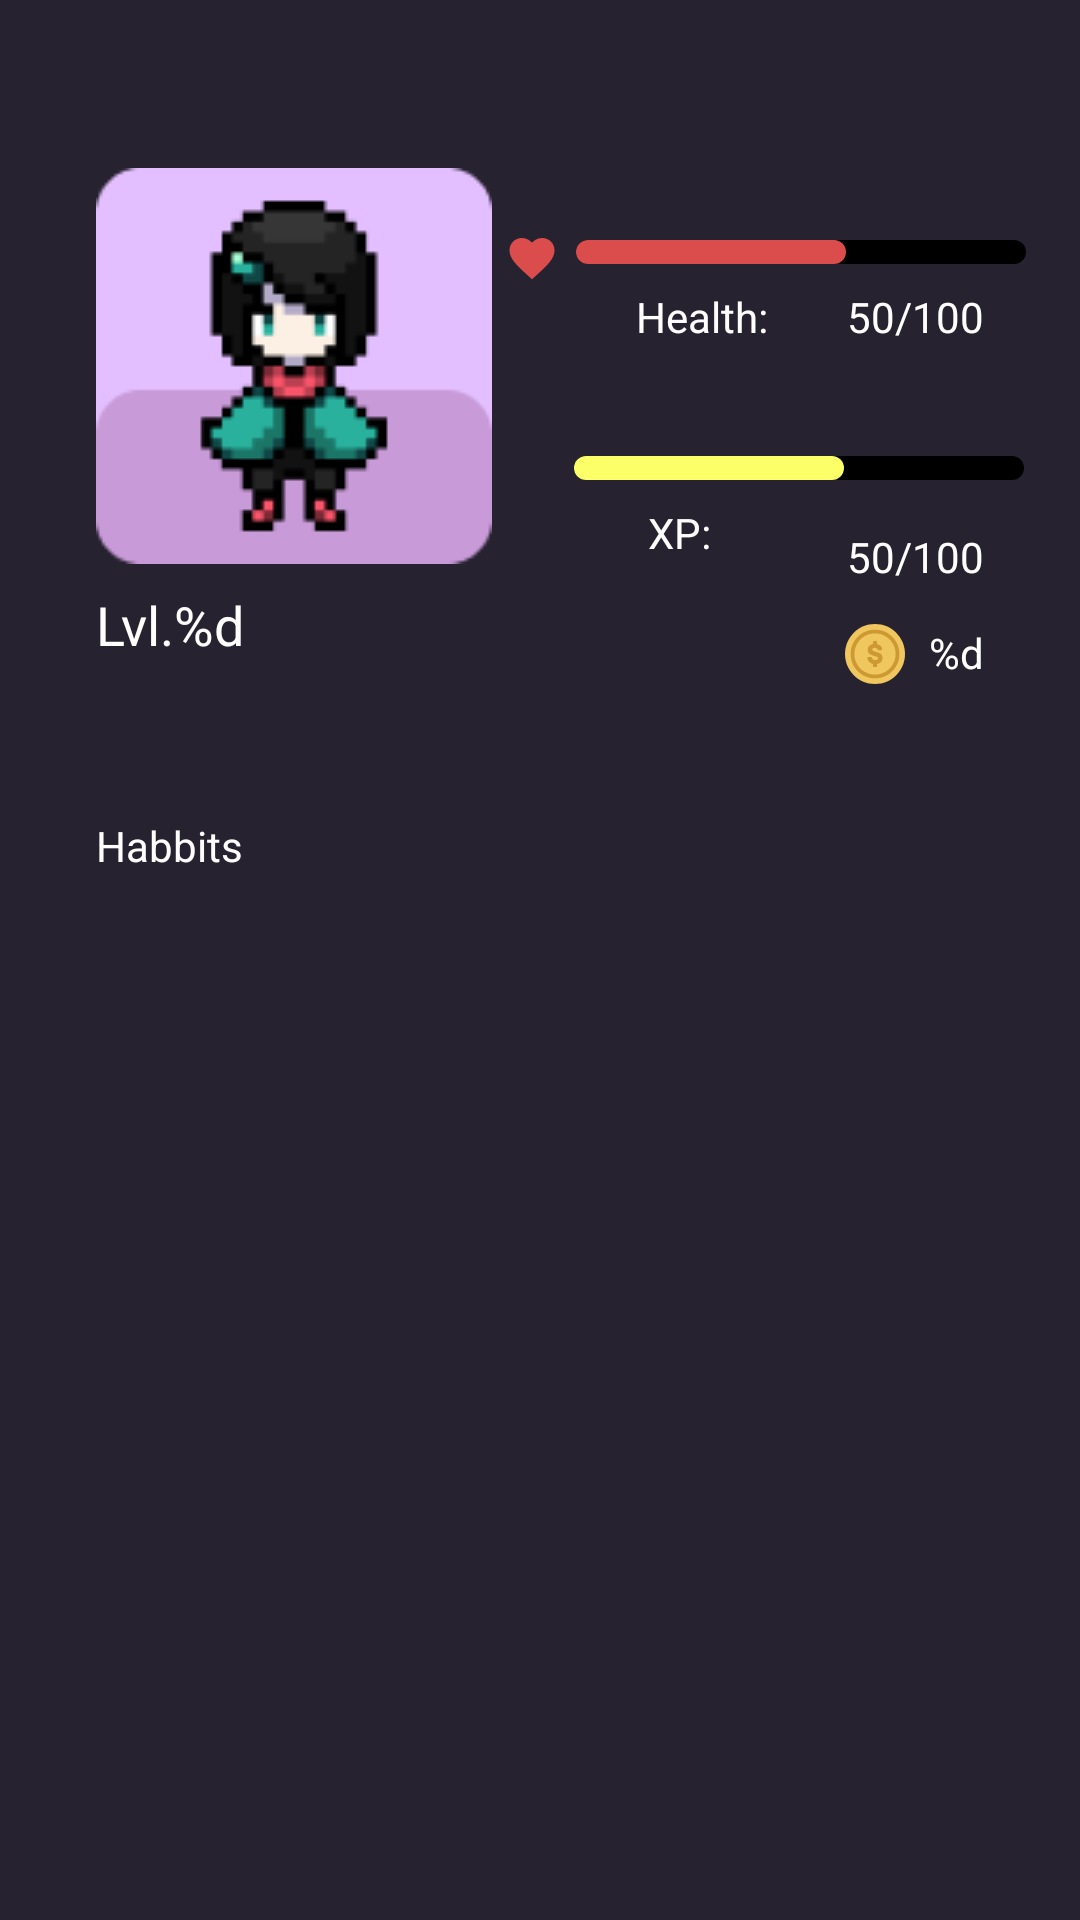

Locate icon controls on the screen. Image size 1080 × 1920, boxes as (x1=x1, y1=y1, x2=x2, y2=y2).
coins: (x1=845, y1=624, x2=905, y2=684)
heart: (x1=509, y1=238, x2=555, y2=279)
